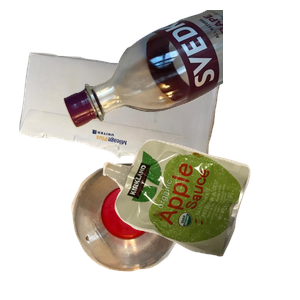glass: (60, 10, 300, 130)
paper: (17, 50, 231, 230)
plastic: (69, 161, 245, 300)
trash: (100, 137, 300, 300)
